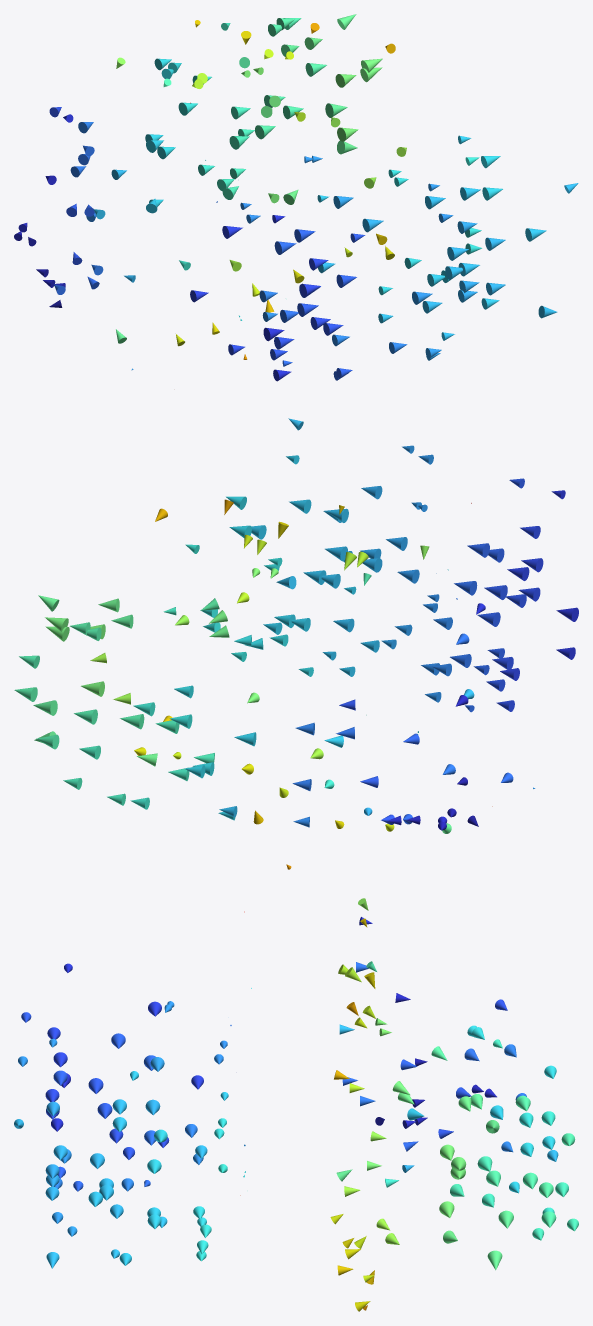
The model's file is LineasCorrienteN2-H2O_mh2-2.70_V-0.7.glb.
3 renders of one model, top to bottom at view 1: azimuth 30°, elevation 25°; view 2: azimuth 150°, elevation 25°; view 3: azimuth 270°, elevation 25°, orthographic. The views are drawn at different scales.
Bounding box in the file's own units: 0.000979 × 0.000862 × 0.0012.
Materials: 2 (2 with a texture image).
